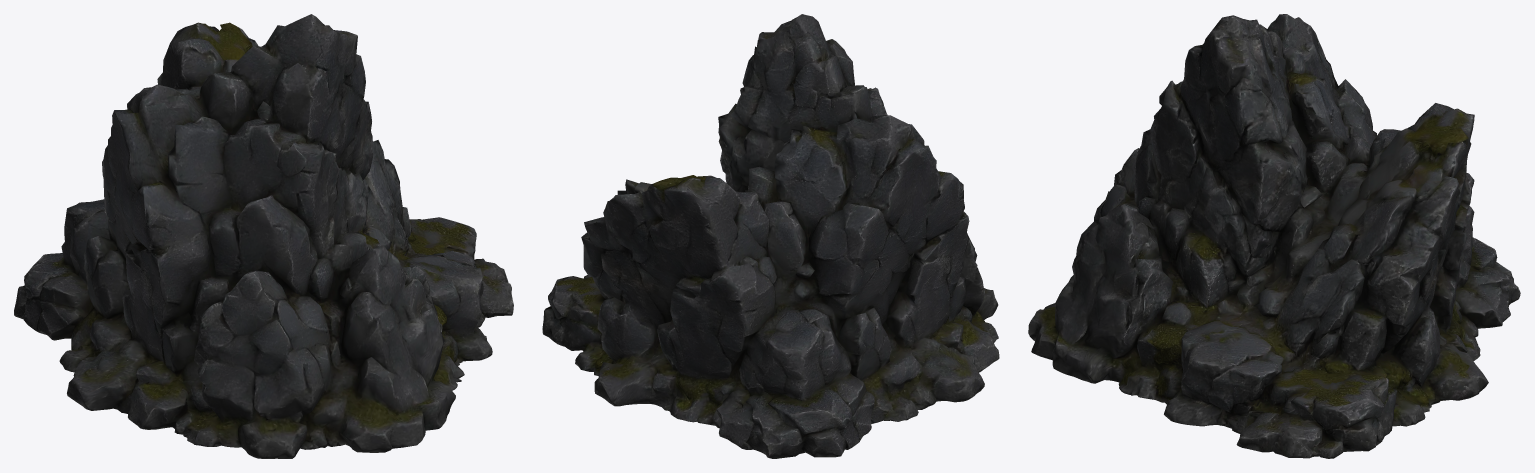
The picture shows the model from 3 angles, left to right: view 1: azimuth 30°, elevation 25°; view 2: azimuth 150°, elevation 25°; view 3: azimuth 270°, elevation 25°; orthographic projection. The views are drawn at different scales.
Visible parts, largest first — view 1: tripo_node_d04412d4-ad0a-456c-b1a5-12830439ecb1; view 2: tripo_node_d04412d4-ad0a-456c-b1a5-12830439ecb1; view 3: tripo_node_d04412d4-ad0a-456c-b1a5-12830439ecb1.
Part boxes in pixels (x1=…): tripo_node_d04412d4-ad0a-456c-b1a5-12830439ecb1: x1=14, y1=14, x2=513, y2=458; tripo_node_d04412d4-ad0a-456c-b1a5-12830439ecb1: x1=542, y1=14, x2=999, y2=458; tripo_node_d04412d4-ad0a-456c-b1a5-12830439ecb1: x1=1028, y1=14, x2=1520, y2=458.
Bounding box in the file's own units: 0.9996 × 0.7568 × 1.
1 material, 1 textured.
